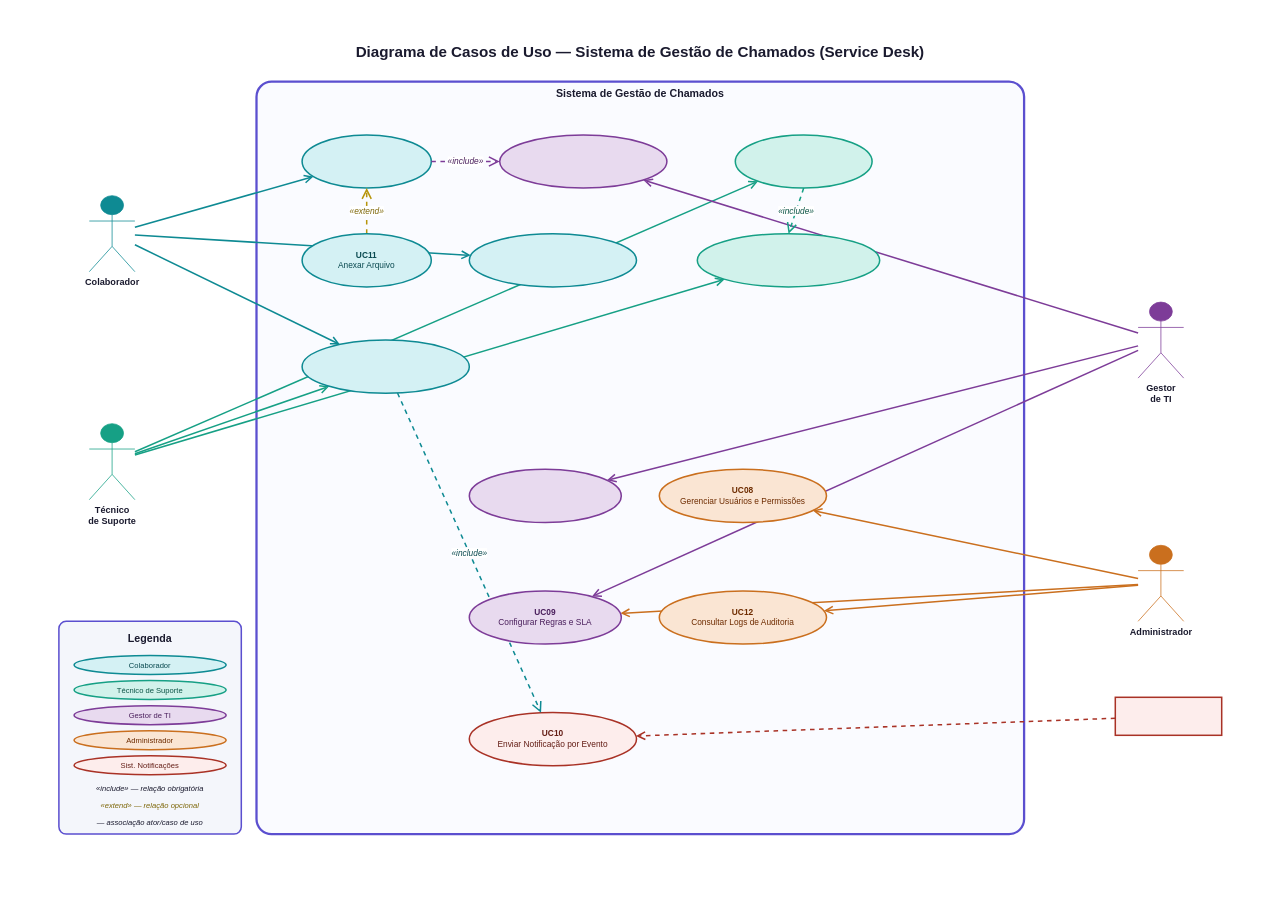
Some shapes in this 1283 by 914 pixel diagram are drawn without their labels. Each missing label, with the centre of its shape:
UC01 Abrir Chamado: the point at 366,161
UC02 Priorizar Chamado Automaticamente: the point at 583,161
UC03 Acompanhar Status em Tempo Real: the point at 552,260
UC04 Atender Chamado: the point at 803,161
UC05 Receber Notificações Automáticas: the point at 385,366
UC06 Encerrar Chamado e Registrar Solução: the point at 788,260
UC07 Visualizar Painel Gerencial: the point at 545,495
«system» Sist. Notificações: the point at 1168,716
